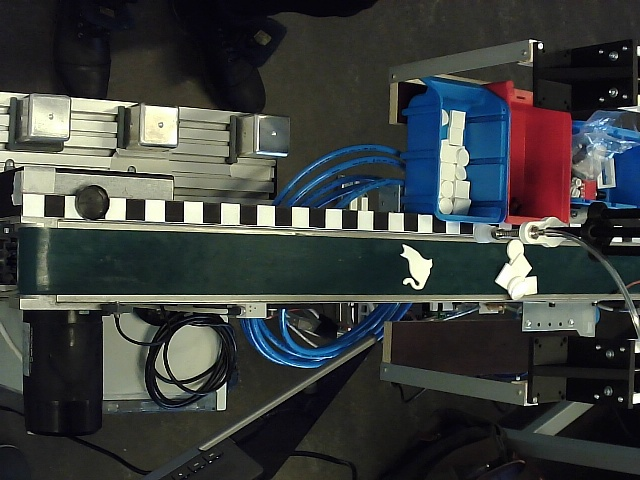cat: (399, 244, 433, 292)
